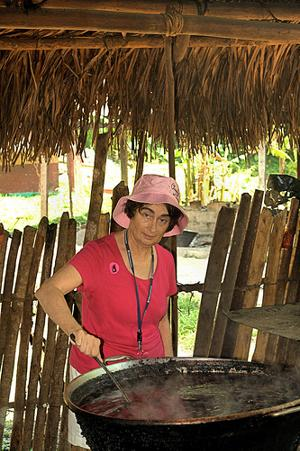person: (36, 179, 184, 451)
